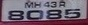character: (8, 9, 25, 20), (26, 9, 43, 20), (45, 9, 63, 19), (64, 8, 81, 18), (24, 1, 34, 7), (34, 1, 42, 8), (58, 1, 66, 7), (43, 1, 50, 7), (50, 1, 57, 7)
